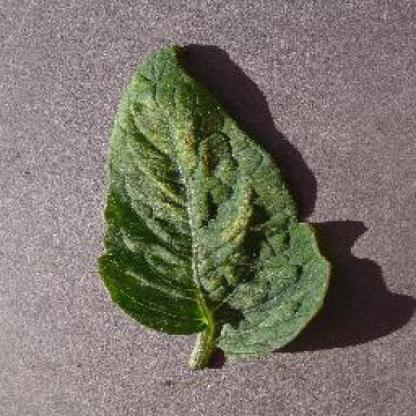Tomato_Spider_Mites: (101, 48, 330, 352)
